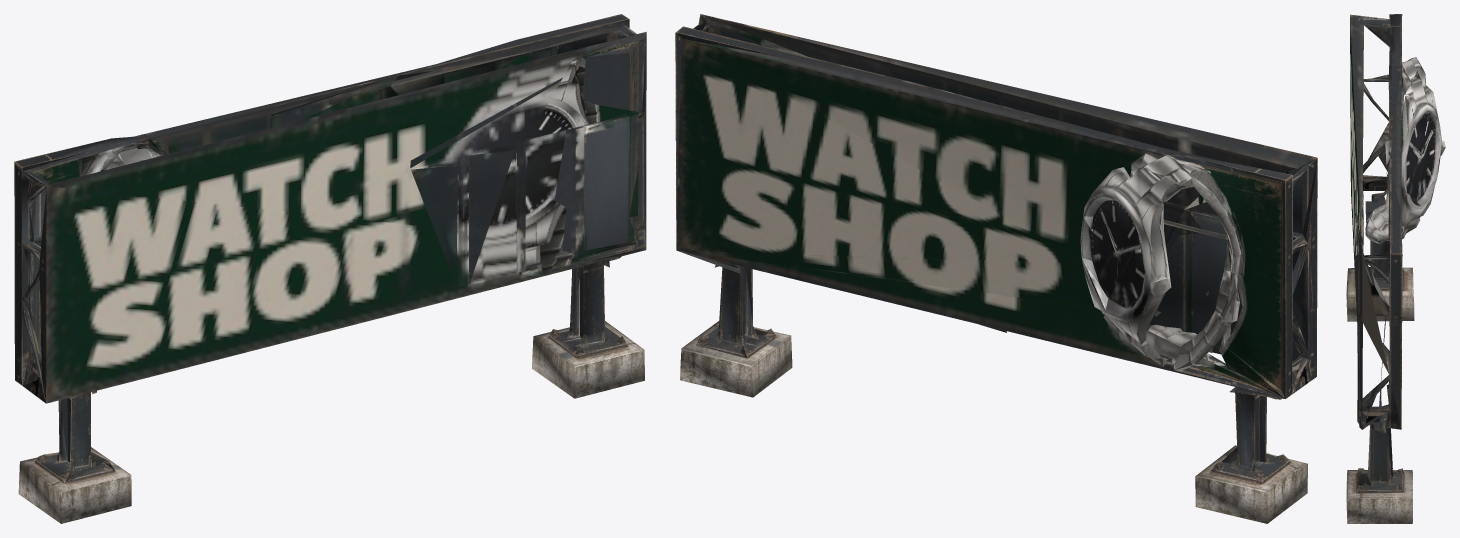
The model's file is watch_sign.glb.
3 views of the same model, side by side, from view 1: azimuth 30°, elevation 25°; view 2: azimuth 150°, elevation 25°; view 3: azimuth 270°, elevation 25° (orthographic). The views are drawn at different scales.
Parts seen in each view (by area): view 1: output_unwrapped; view 2: output_unwrapped; view 3: output_unwrapped.
Boxes of the visible parts, x1,y1,x2,y2 form: output_unwrapped: (14,14,646,523); output_unwrapped: (675,14,1317,523); output_unwrapped: (1346,14,1445,523).
Bounding box in the file's own units: 22.45 × 12 × 3.94.
1 material, 1 textured.
